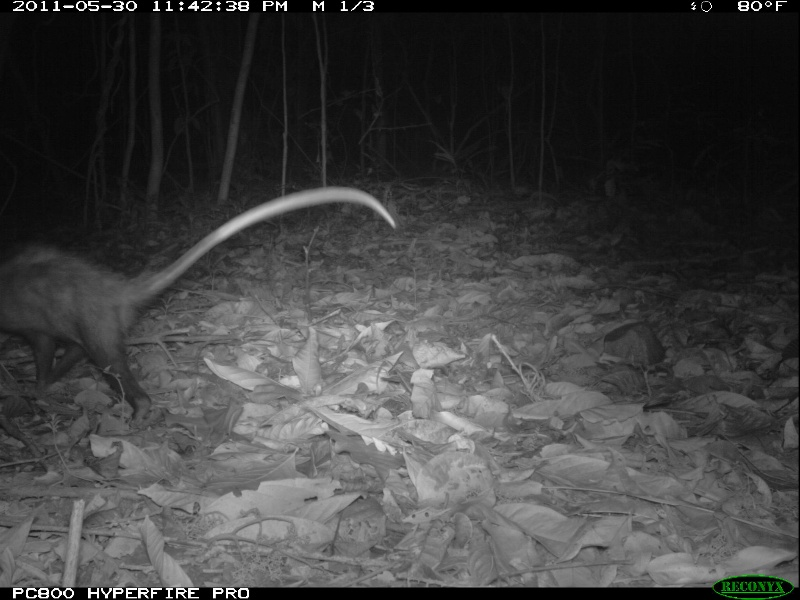opossum: (1, 185, 400, 425)
